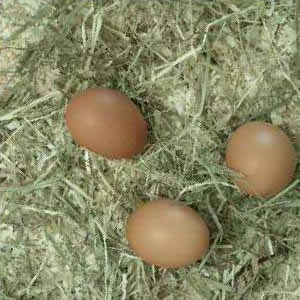egg: (65, 87, 149, 161), (126, 199, 211, 269), (224, 120, 296, 198)
